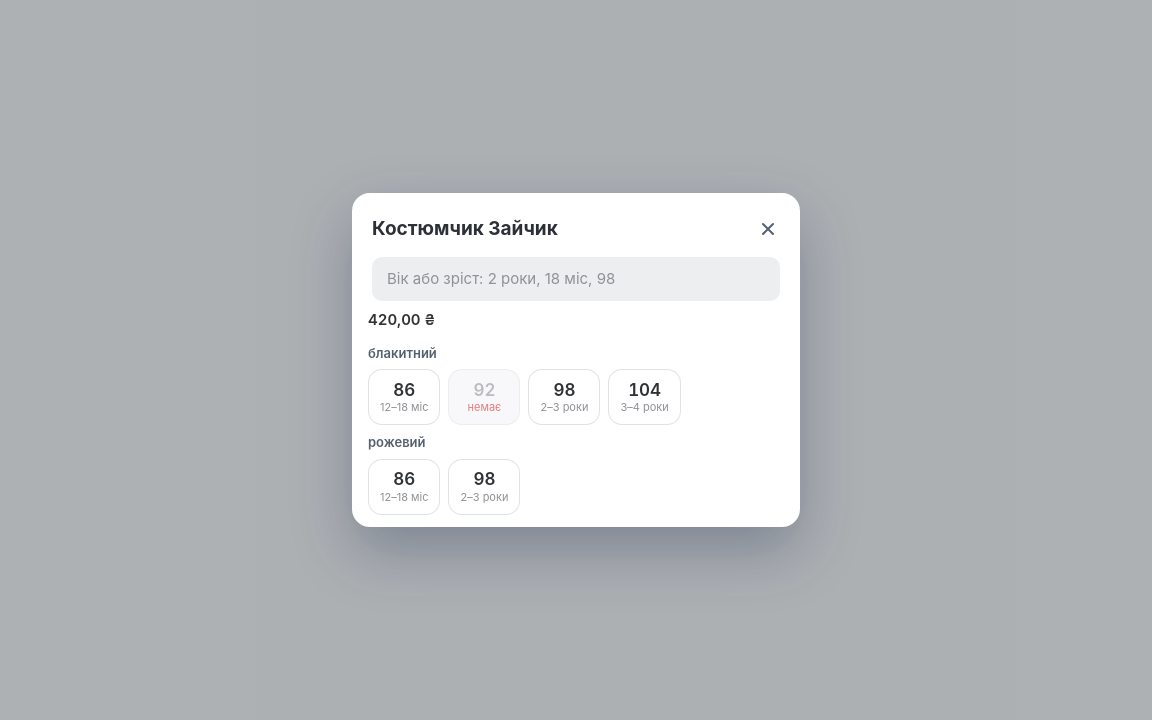
Scenario: VariantPicker — «Вік або зріст дитини» › asks for an age or a height when it cannot read what was typed, and lights nothing
This screenshot has width=1152, height=720.
In the field named "Вік або зріст дитини": {"x": 576, "y": 279} [372,257,780,301], type "привіт"
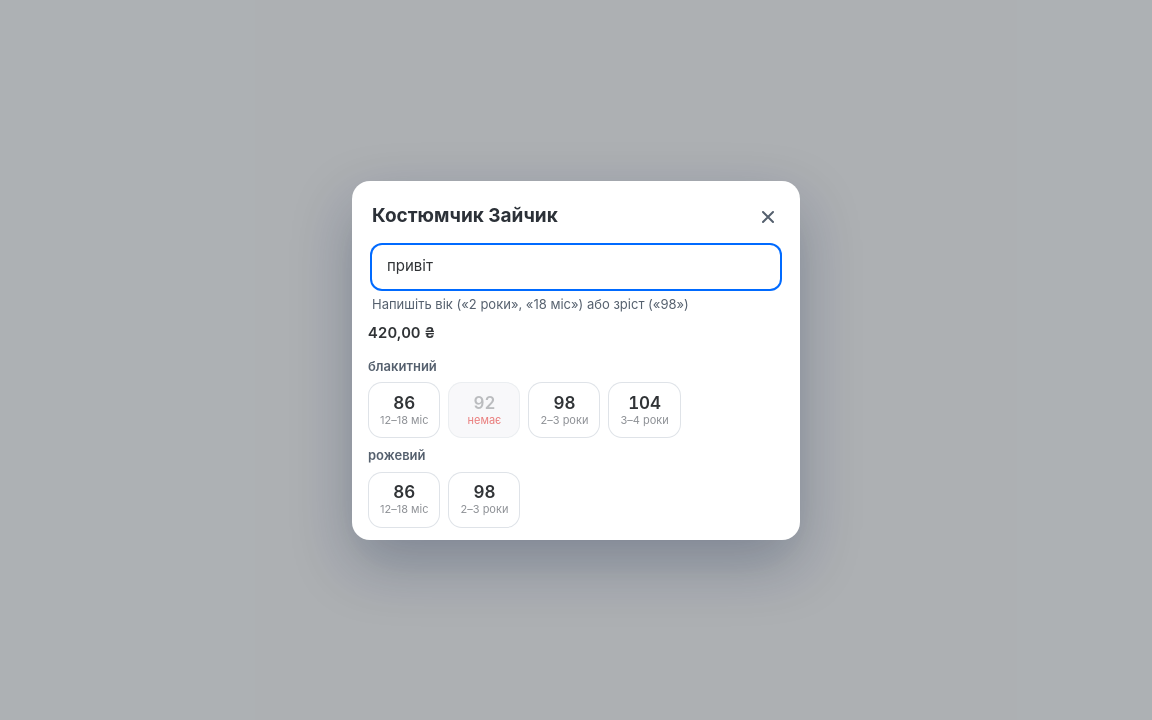
Expected: the message with test id "size-finder-status" shows "Напишіть вік", [372,296,689,312]
